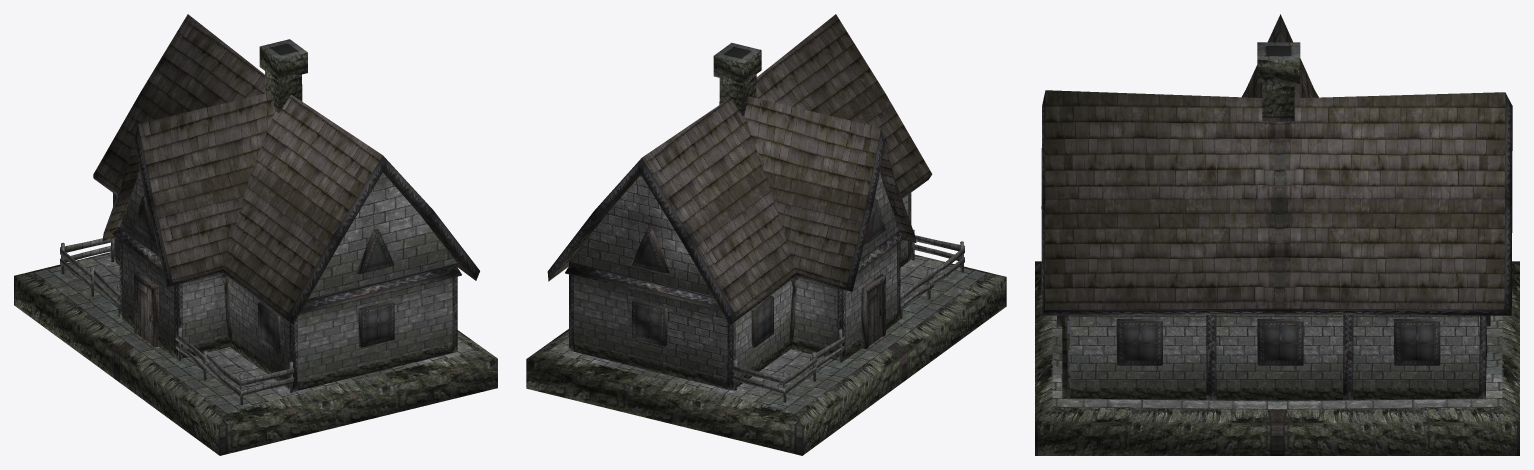
File: house2-02.obj
The picture shows the model from 3 angles, left to right: view 1: azimuth 30°, elevation 25°; view 2: azimuth 150°, elevation 25°; view 3: azimuth 270°, elevation 25°; orthographic projection. The views are drawn at different scales.
Bounding box in the file's own units: 10.17 × 10.14 × 13.04.
1 material, 1 textured.
